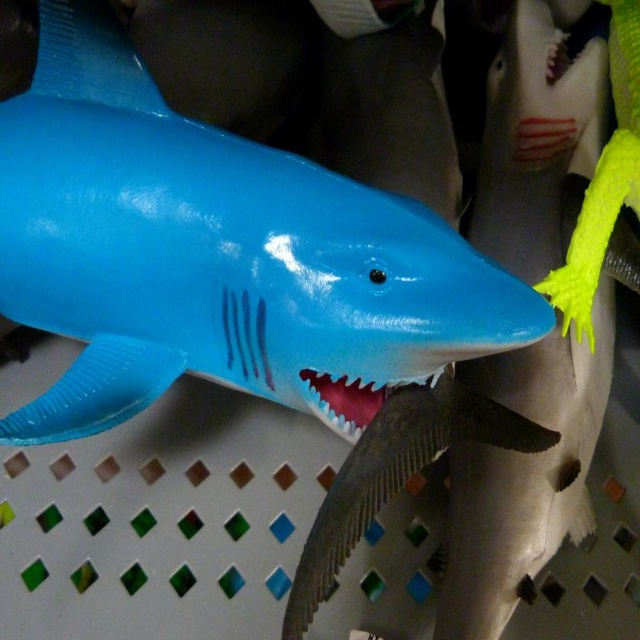Shark: (2, 0, 563, 442)
